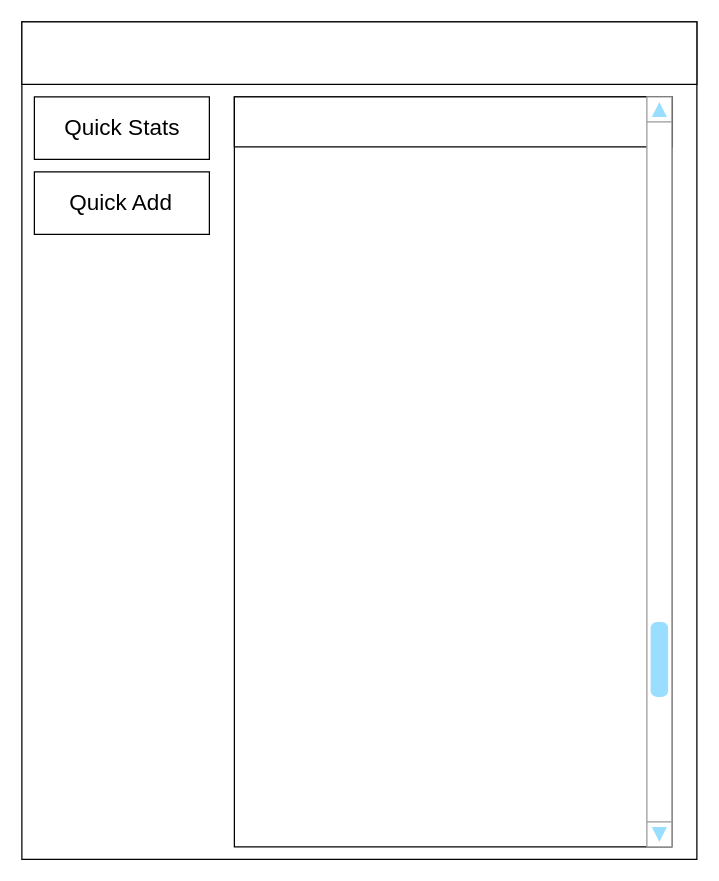
This 719x881 diagram has some shape labels left out. Each missing label, with the box of its shape:
Book Log: (21, 21, 697, 84)
Book Title Authors Status Progress Rating: (233, 96, 672, 147)
